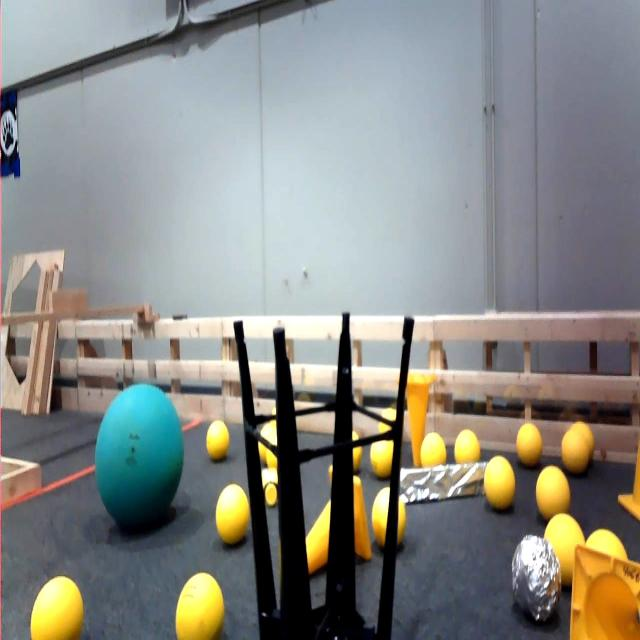fuel: (163, 554, 240, 640), (22, 561, 90, 640), (543, 510, 588, 590), (210, 473, 257, 547), (368, 488, 411, 554), (539, 457, 574, 530), (477, 456, 518, 512), (254, 406, 285, 478), (514, 412, 550, 472), (586, 524, 632, 568), (416, 424, 451, 478), (365, 436, 399, 482), (199, 416, 231, 464), (563, 416, 592, 468), (453, 422, 483, 469), (376, 406, 401, 438)
